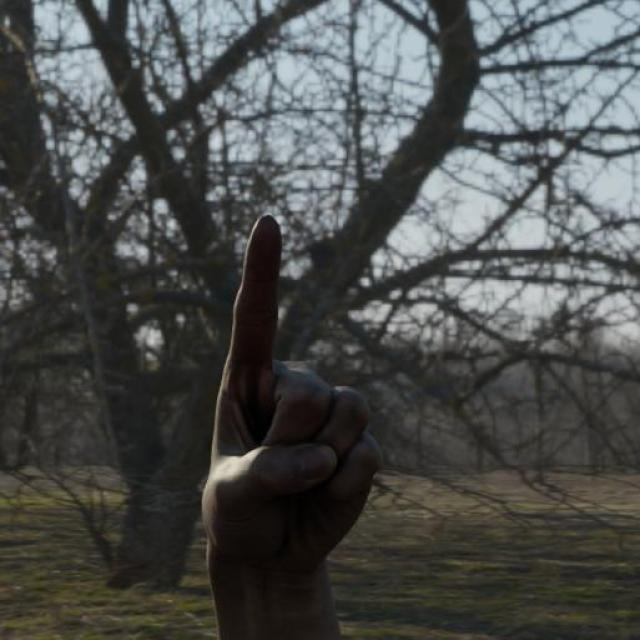Z: (199, 208, 387, 582)
